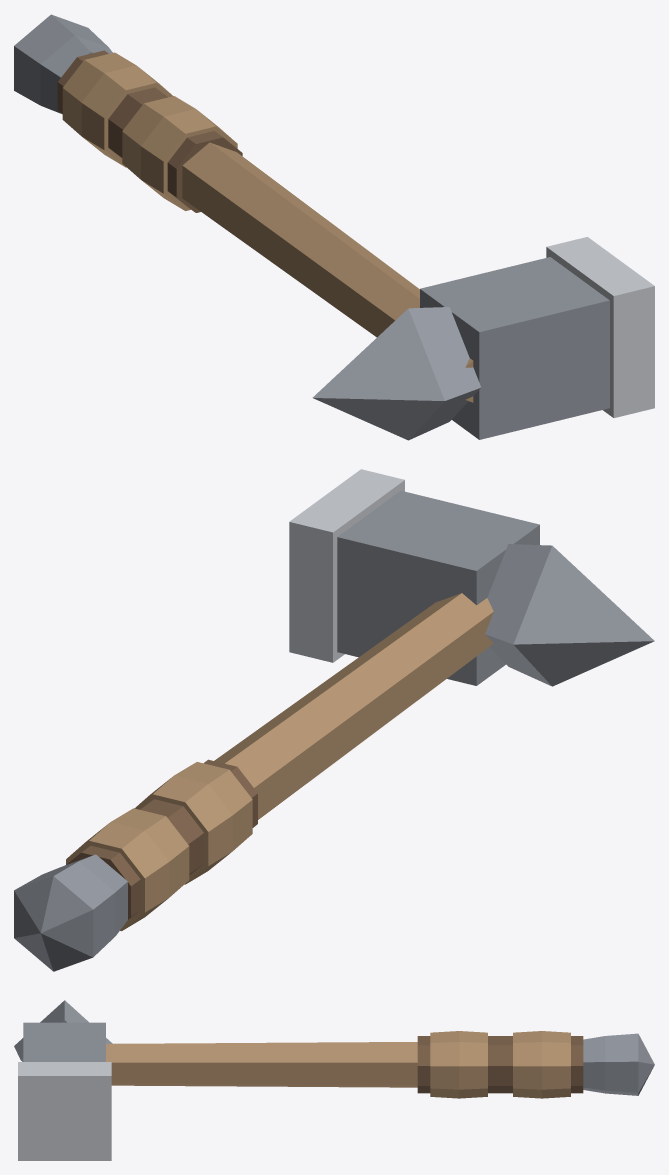
The model's file is smithhammer.glb.
3 views of the same model, one above another, from view 1: azimuth 30°, elevation 25°; view 2: azimuth 150°, elevation 25°; view 3: azimuth 270°, elevation 25° (orthographic). The views are drawn at different scales.
Parts seen in each view (by area): view 1: smithhammer; view 2: smithhammer; view 3: smithhammer.
Boxes of the visible parts, x1=… form: smithhammer: x1=14, y1=14, x2=654, y2=440; smithhammer: x1=14, y1=469, x2=654, y2=971; smithhammer: x1=14, y1=1000, x2=654, y2=1160.
Size of the model in its own units: 0.225 by 0.092 by 0.581.
